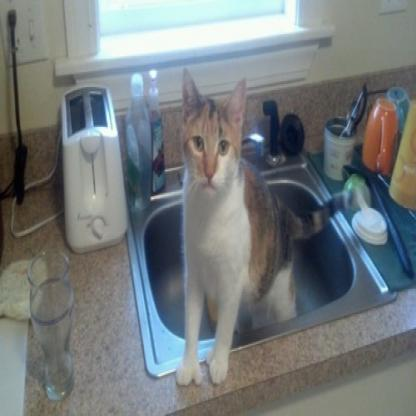Target: (168, 63, 362, 385)
